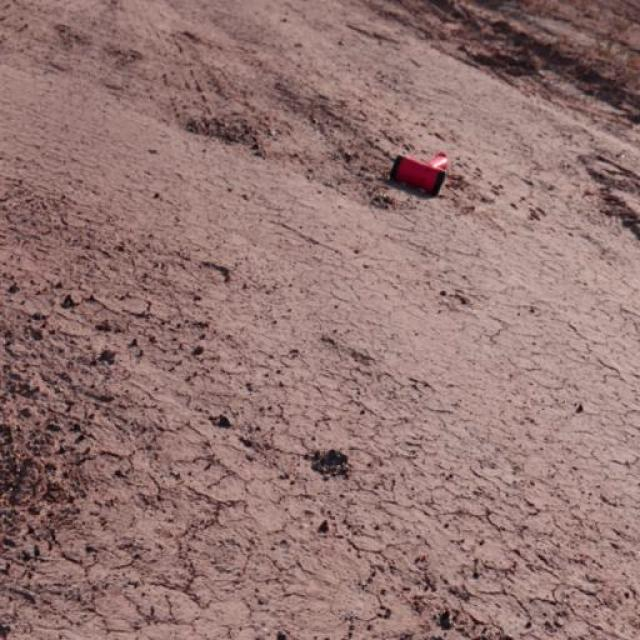mallet: (390, 149, 450, 196)
